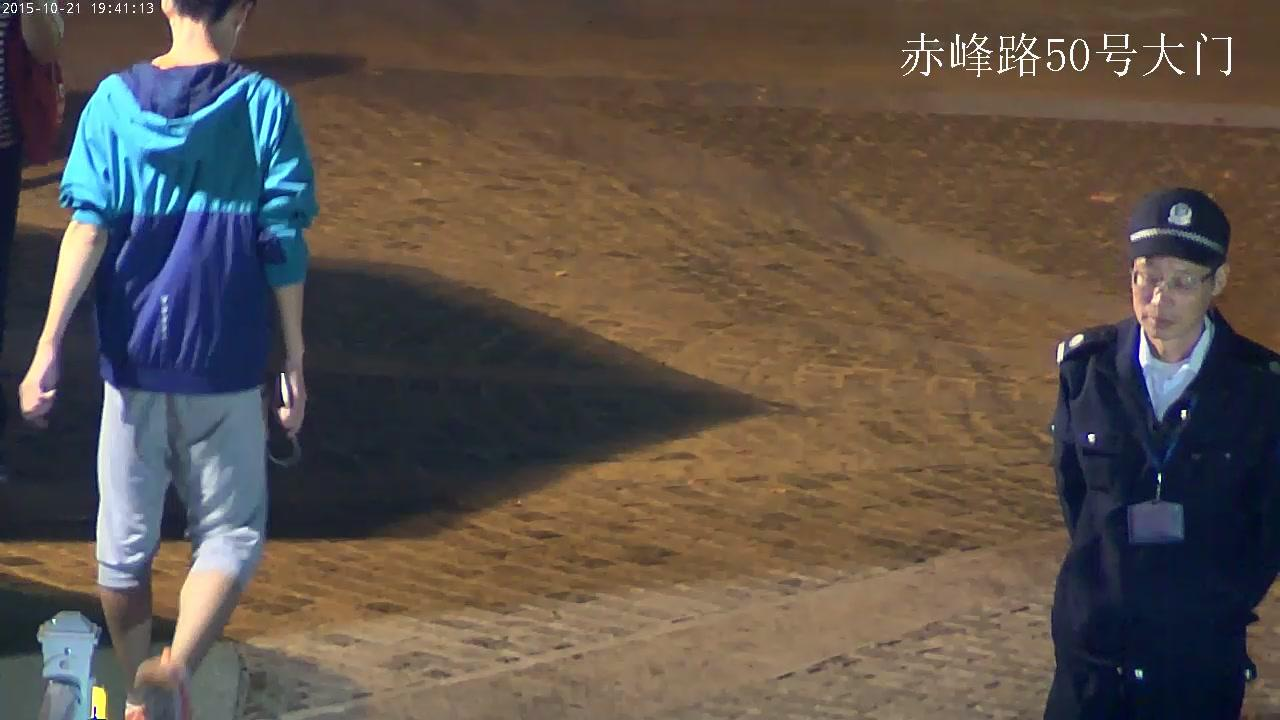face: (1131, 253, 1210, 339)
